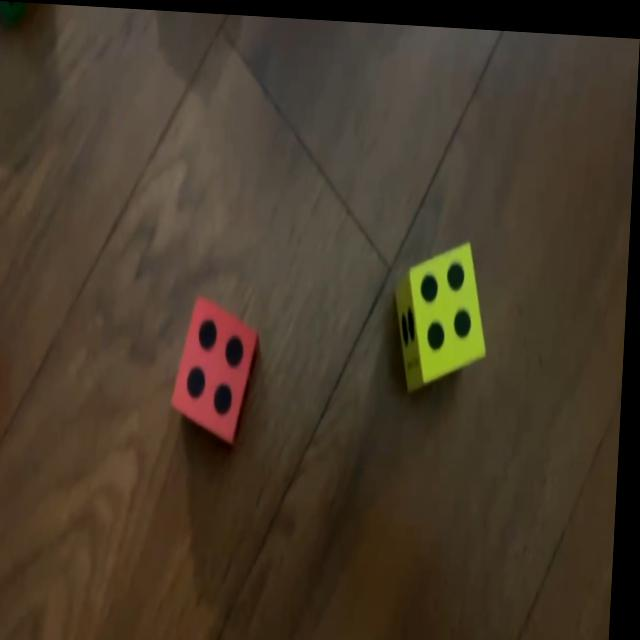red_block: (172, 292, 264, 442)
